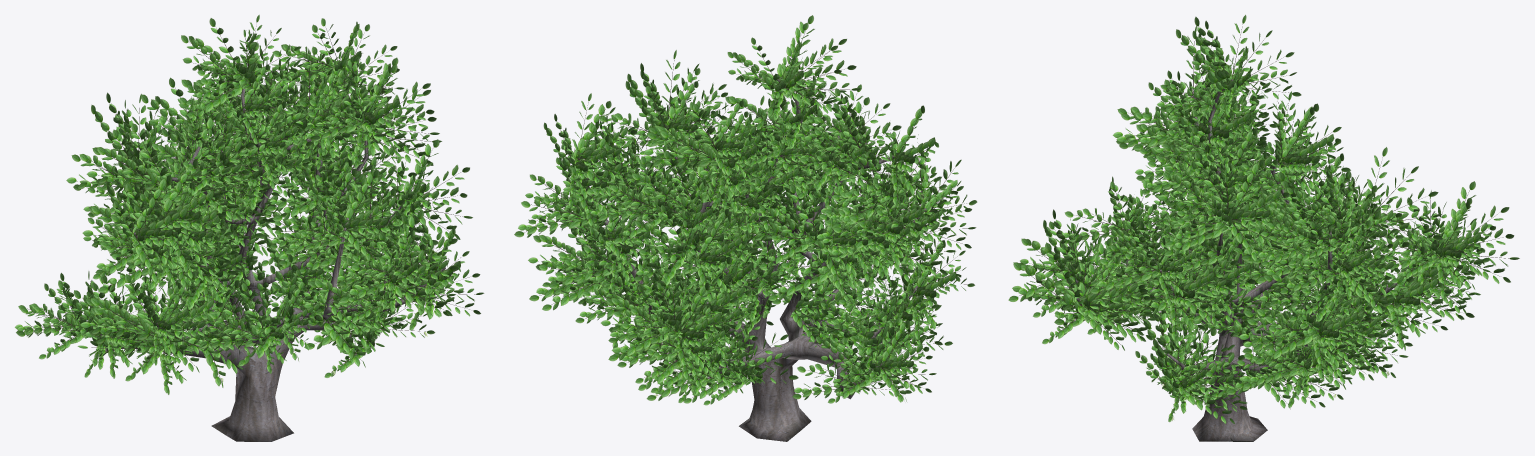
The model's file is gaber_koncni.glb.
3 renders of one model, left to right at view 1: azimuth 30°, elevation 25°; view 2: azimuth 150°, elevation 25°; view 3: azimuth 270°, elevation 25°, orthographic. The views are drawn at different scales.
Visible parts, largest first — view 1: og_deblo_veje, gaber_veje.322, gaber_veje.479, gaber_veje.346, gaber_veje.502, gaber_veje.361, gaber_veje.468, gaber_veje.382, gaber_veje.577, gaber_veje.318, gaber_veje.351, gaber_veje.364 (+105 smaller); view 2: og_deblo_veje, gaber_veje.435, gaber_veje.315, gaber_veje.547, gaber_veje.361, gaber_veje.330, gaber_veje.541, gaber_veje.429, gaber_veje.475, gaber_veje.557, gaber_veje.579, gaber_veje.392 (+126 smaller); view 3: og_deblo_veje, gaber_veje.381, gaber_veje.337, gaber_veje.546, gaber_veje.501, gaber_veje.307, gaber_veje.568, gaber_veje.557, gaber_veje.445, gaber_veje.547, gaber_veje.468, gaber_veje.489 (+93 smaller).
Part boxes in pixels (box(x1,y1,x2,y2)): og_deblo_veje: box(79, 78, 445, 441); gaber_veje.322: box(131, 175, 195, 284); gaber_veje.479: box(382, 210, 463, 316); gaber_veje.346: box(343, 170, 404, 267); gaber_veje.502: box(80, 274, 164, 340); gaber_veje.361: box(86, 123, 168, 190); gaber_veje.468: box(399, 139, 472, 239); gaber_veje.382: box(163, 271, 222, 372); gaber_veje.577: box(159, 160, 221, 265); gaber_veje.318: box(187, 282, 269, 352); gaber_veje.351: box(182, 112, 255, 219); gaber_veje.364: box(363, 57, 439, 157); og_deblo_veje: box(585, 79, 926, 441); gaber_veje.435: box(644, 103, 723, 169); gaber_veje.315: box(574, 101, 637, 196); gaber_veje.547: box(608, 278, 682, 361); gaber_veje.361: box(891, 105, 938, 207); gaber_veje.330: box(773, 22, 846, 113); gaber_veje.541: box(676, 283, 725, 381); gaber_veje.429: box(695, 209, 746, 303); gaber_veje.475: box(781, 15, 861, 113); gaber_veje.557: box(514, 167, 593, 237); gaber_veje.579: box(821, 185, 878, 291); gaber_veje.392: box(880, 320, 928, 402); og_deblo_veje: box(1076, 79, 1411, 441); gaber_veje.381: box(1226, 159, 1289, 262); gaber_veje.337: box(1074, 237, 1153, 336); gaber_veje.546: box(1388, 247, 1443, 350); gaber_veje.501: box(1012, 242, 1083, 311); gaber_veje.307: box(1359, 147, 1442, 243); gaber_veje.568: box(1179, 328, 1246, 423); gaber_veje.557: box(1346, 211, 1409, 314); gaber_veje.445: box(1278, 107, 1332, 208); gaber_veje.547: box(1438, 181, 1519, 283); gaber_veje.468: box(1090, 222, 1165, 293); gaber_veje.489: box(1255, 281, 1326, 364).
Bounding box in the file's own units: 15.26 × 15.43 × 17.68.
Materials: 8 (7 with a texture image).
